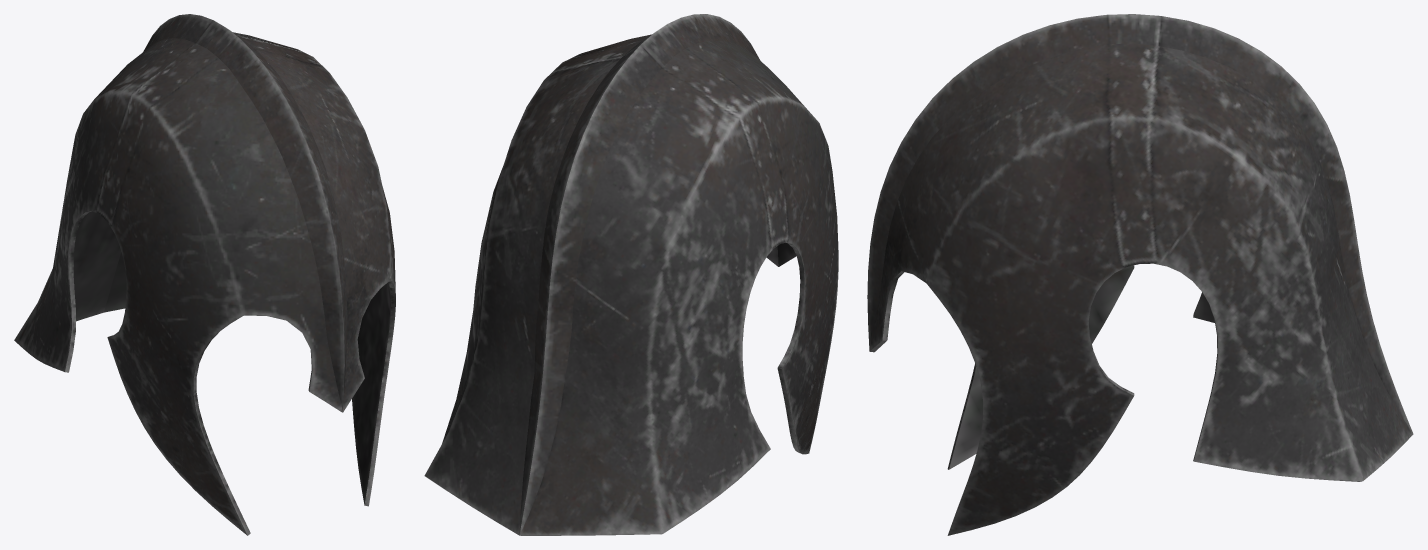
Rendered from sk_uruk_mordor_helmet_medium_d1.fbx.
3 views of the same model, side by side, from view 1: azimuth 30°, elevation 25°; view 2: azimuth 150°, elevation 25°; view 3: azimuth 270°, elevation 25° (orthographic). The views are drawn at different scales.
Visible parts, largest first — view 1: sk_uruk_mordor_helmet_medium_d1; view 2: sk_uruk_mordor_helmet_medium_d1; view 3: sk_uruk_mordor_helmet_medium_d1.
Boxes of the visible parts, x1,y1,x2,y2 form: sk_uruk_mordor_helmet_medium_d1: (14,14,395,535); sk_uruk_mordor_helmet_medium_d1: (424,14,838,535); sk_uruk_mordor_helmet_medium_d1: (867,14,1413,535).
Size of the model in its own units: 0.197 by 0.3075 by 0.3036.
1 material, 1 textured.
